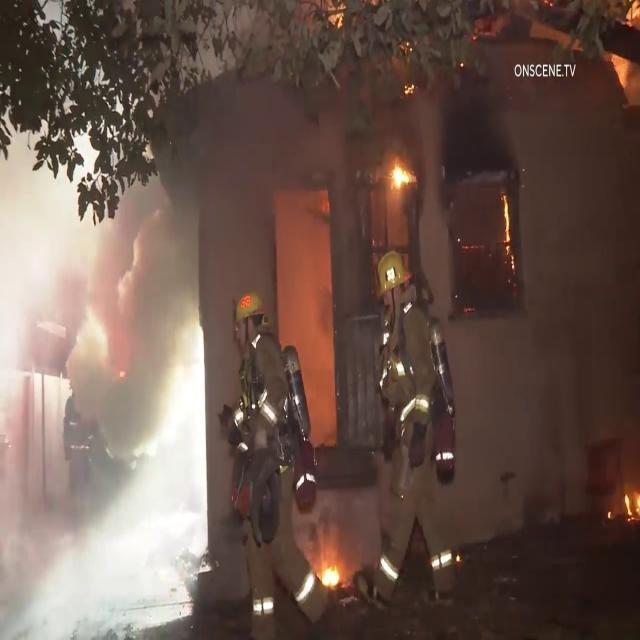Fire: (618, 8, 640, 108), (390, 156, 414, 206), (619, 492, 640, 528), (324, 556, 340, 594)
Smoke: (35, 178, 199, 476)
